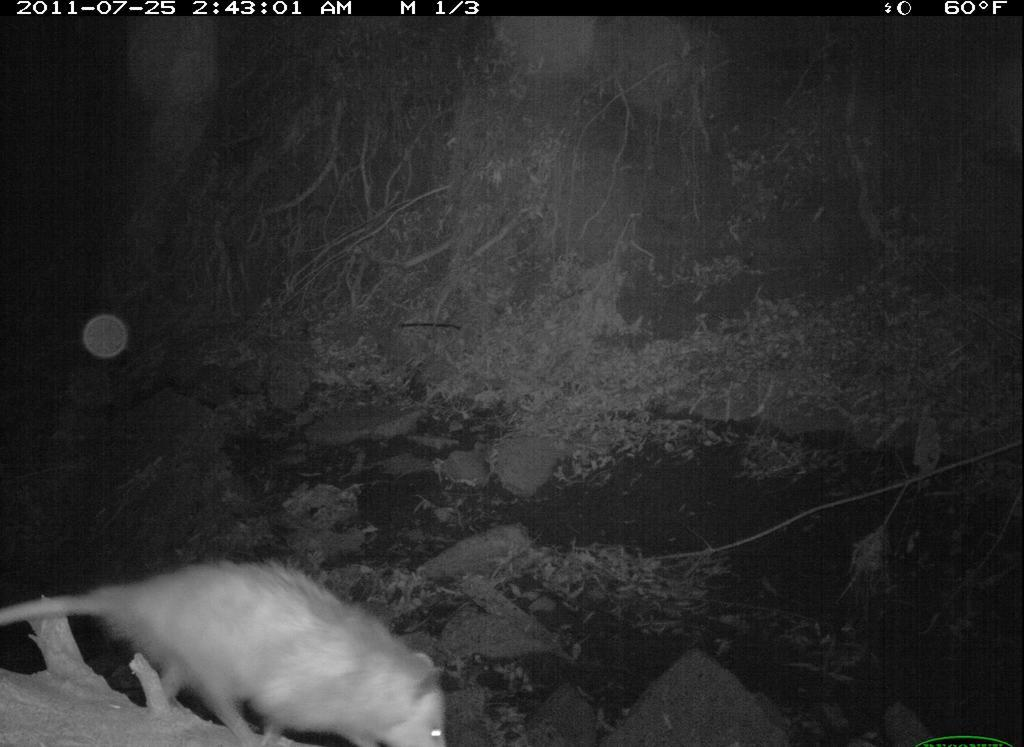opossum: (3, 548, 482, 747)
